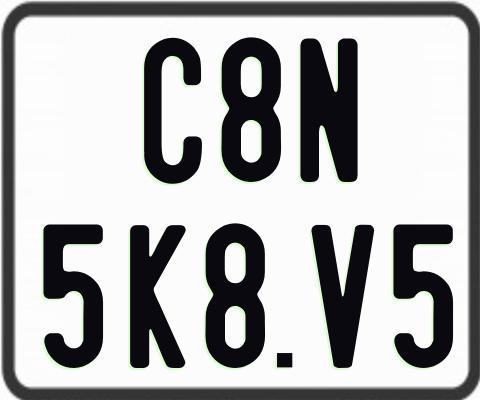5: (42, 222, 107, 367), (393, 224, 453, 371)
8: (219, 37, 281, 188), (204, 222, 266, 367)
C: (143, 38, 206, 187)
K: (127, 223, 184, 372)
N: (299, 37, 359, 187)
V: (309, 224, 378, 373)
